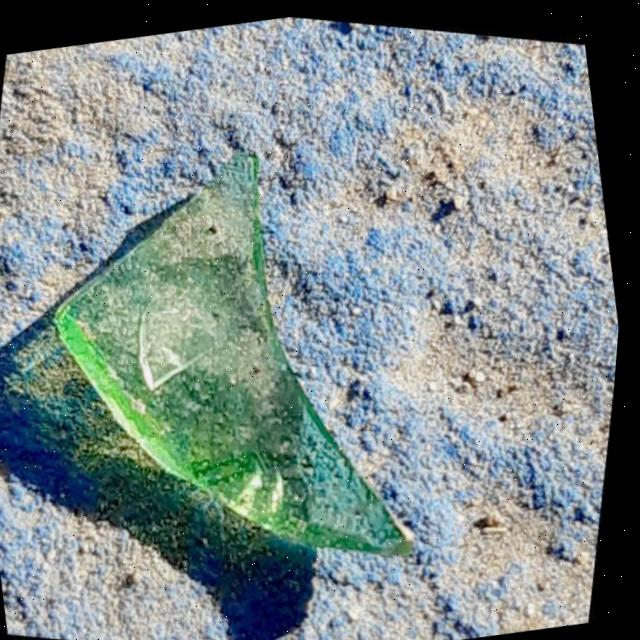Dry: (95, 221, 312, 464), (185, 381, 358, 532), (317, 440, 430, 571), (46, 264, 141, 403), (162, 145, 270, 244)
